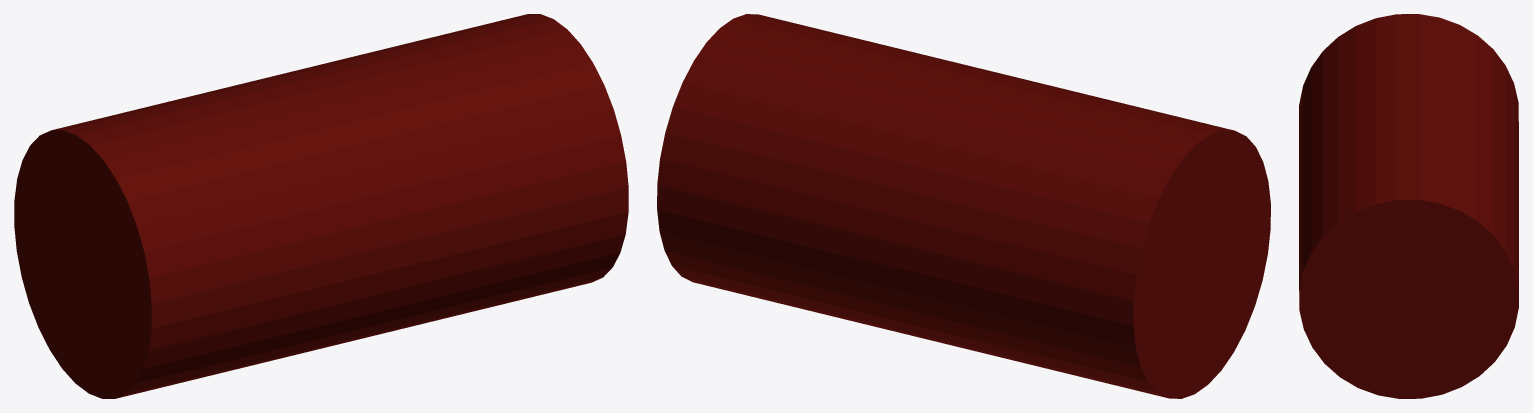
File: wire for connection.fbx
The picture shows the model from 3 angles, left to right: view 1: azimuth 30°, elevation 25°; view 2: azimuth 150°, elevation 25°; view 3: azimuth 270°, elevation 25°; orthographic projection. The views are drawn at different scales.
Parts seen in each view (by area): view 1: wire for connection; view 2: wire for connection; view 3: wire for connection.
Boxes of the visible parts, x1,y1,x2,y2 form: wire for connection: (14,14,628,398); wire for connection: (657,14,1270,398); wire for connection: (1299,14,1518,398).
Size of the model in its own units: 40.03 by 19.99 by 19.99.
